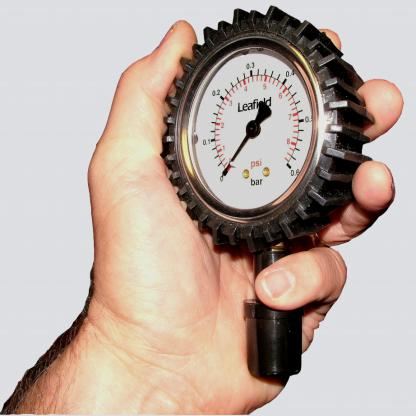needle: (221, 133, 251, 179)
